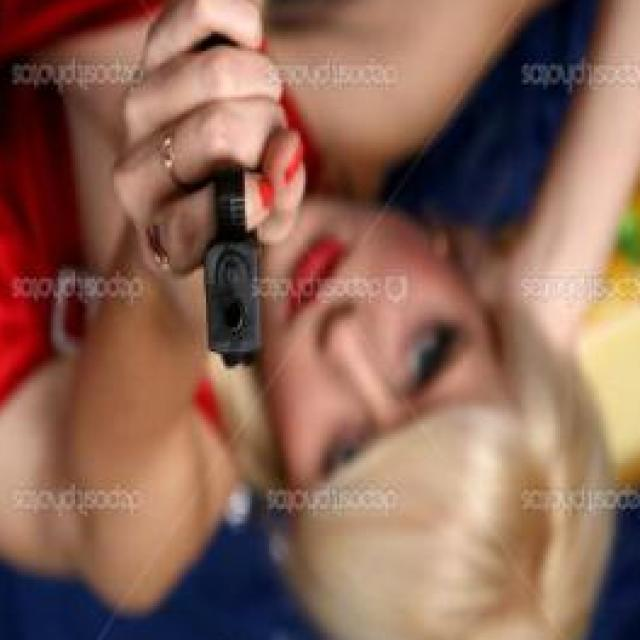pistol: (192, 7, 266, 376)
